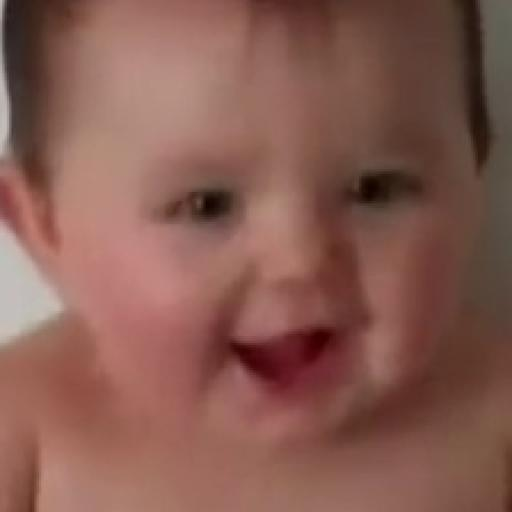Autism: (18, 12, 500, 480)
